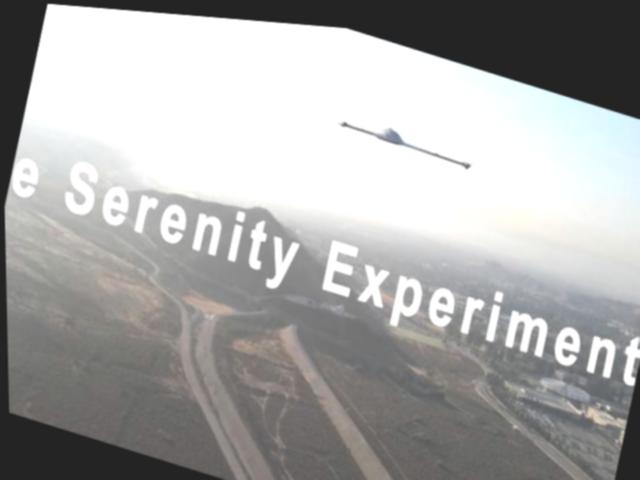iha: (326, 86, 479, 176)
